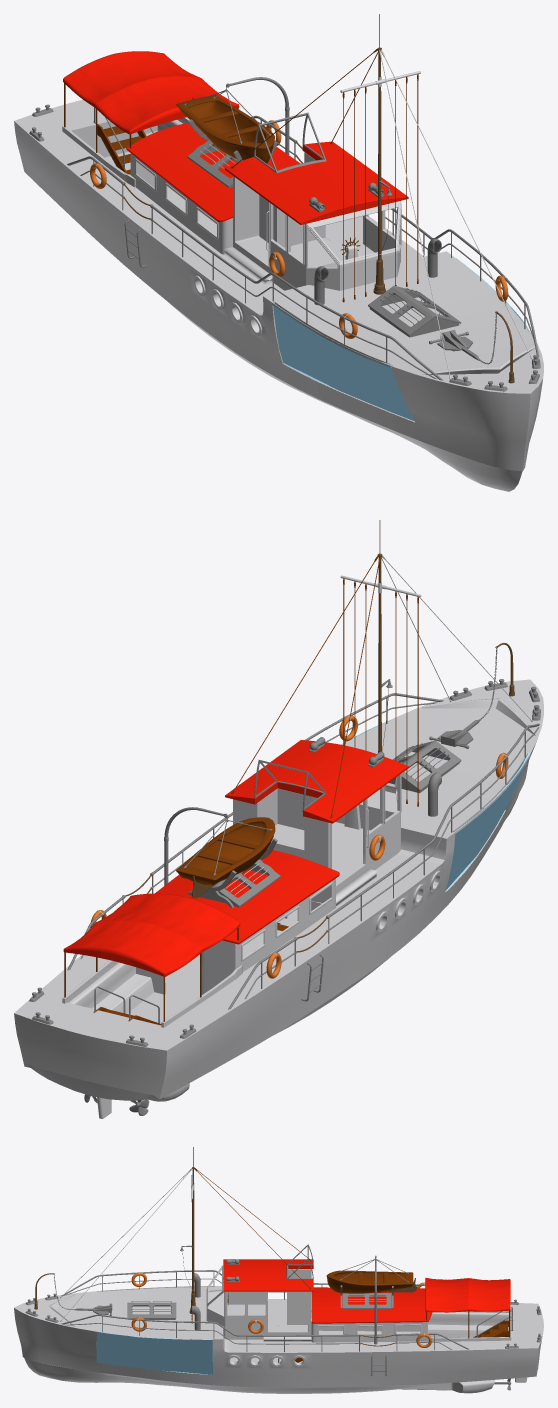
The model's file is Yacht_MyEdit.fbx.
The picture shows the model from 3 angles, top to bottom: view 1: azimuth 30°, elevation 25°; view 2: azimuth 150°, elevation 25°; view 3: azimuth 270°, elevation 25°; orthographic projection. The views are drawn at different scales.
Parts seen in each view (by area): view 1: Passenger_Cabin, Captain_s_Cabin_Hood, Hull_Window_Right, Passenger_Cabin_Hood, Roof.001, Lifeboat, Roof, R_Handrail, Front_Hatch, L_Handrail, Mast, Cabin_Ladder (+6 smaller); view 2: Passenger_Cabin, Captain_s_Cabin_Hood, Passenger_Cabin_Hood, Roof.001, Roof, Lifeboat, L_Seat, Hull_Window_Right, R_Handrail, Front_Hatch, L_Handrail, Middle_Hatch (+2 smaller); view 3: Passenger_Cabin, Hull_Window_Left, Passenger_Cabin_Hood, Captain_s_Cabin_Hood, Roof, R_Seat, Lifeboat, L_Handrail, Roof.001, Engine, R_Handrail, Front_Hatch (+4 smaller).
Part boxes in pixels (x1=…): Passenger_Cabin: x1=14, y1=99, x2=543, y2=491; Captain_s_Cabin_Hood: x1=224, y1=141, x2=408, y2=224; Hull_Window_Right: x1=273, y1=304, x2=414, y2=421; Passenger_Cabin_Hood: x1=126, y1=123, x2=300, y2=222; Roof.001: x1=63, y1=53, x2=238, y2=134; Lifeboat: x1=176, y1=94, x2=274, y2=163; Roof: x1=91, y1=51, x2=239, y2=123; R_Handrail: x1=67, y1=156, x2=443, y2=380; Front_Hatch: x1=368, y1=285, x2=461, y2=337; L_Handrail: x1=251, y1=115, x2=539, y2=356; Mast: x1=373, y1=14, x2=385, y2=294; Cabin_Ladder: x1=93, y1=121, x2=146, y2=174; Passenger_Cabin: x1=14, y1=679, x2=543, y2=1100; Captain_s_Cabin_Hood: x1=225, y1=740, x2=408, y2=823; Passenger_Cabin_Hood: x1=155, y1=849, x2=339, y2=944; Roof.001: x1=90, y1=895, x2=240, y2=976; Roof: x1=63, y1=893, x2=227, y2=976; Lifeboat: x1=176, y1=817, x2=275, y2=885; L_Seat: x1=68, y1=962, x2=154, y2=1013; Hull_Window_Right: x1=445, y1=753, x2=529, y2=890; R_Handrail: x1=228, y1=723, x2=539, y2=1009; Front_Hatch: x1=389, y1=740, x2=461, y2=793; L_Handrail: x1=67, y1=693, x2=443, y2=970; Middle_Hatch: x1=187, y1=859, x2=280, y2=907; Passenger_Cabin: x1=14, y1=1265, x2=543, y2=1393; Hull_Window_Left: x1=96, y1=1331, x2=212, y2=1374; Passenger_Cabin_Hood: x1=312, y1=1287, x2=432, y2=1323; Captain_s_Cabin_Hood: x1=223, y1=1259, x2=313, y2=1291; Roof: x1=425, y1=1279, x2=510, y2=1312; R_Seat: x1=428, y1=1312, x2=508, y2=1337; Lifeboat: x1=326, y1=1270, x2=413, y2=1293; L_Handrail: x1=61, y1=1314, x2=469, y2=1351; Roof.001: x1=425, y1=1278, x2=510, y2=1309; Engine: x1=400, y1=1380, x2=495, y2=1393; R_Handrail: x1=61, y1=1270, x2=425, y2=1299; Front_Hatch: x1=127, y1=1302, x2=176, y2=1319.
Size of the model in its own units: 64586 by 132205 by 265884.
